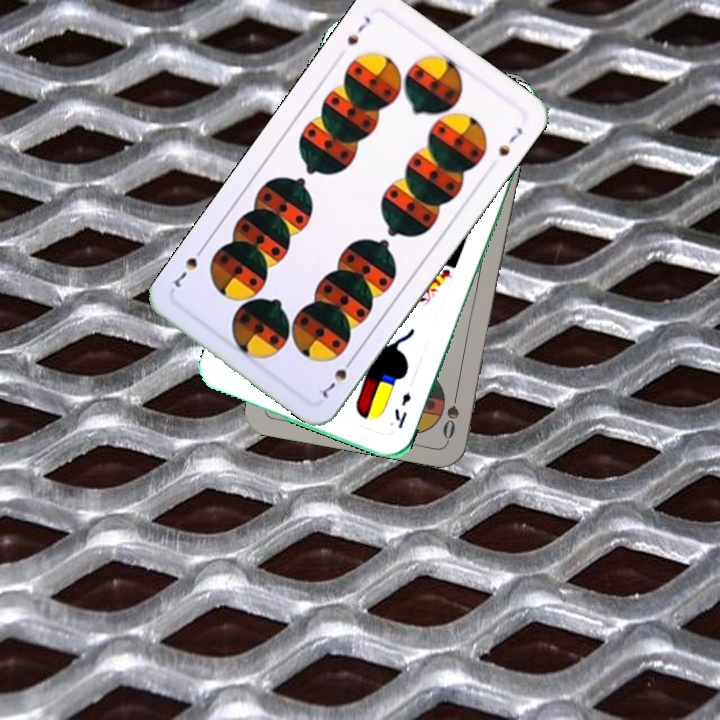EK: (390, 387, 414, 431)
S7: (314, 352, 358, 401), (343, 12, 374, 48)
SO: (438, 384, 462, 442)
